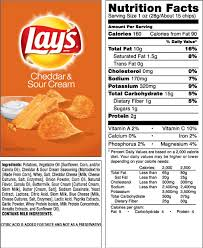lays-small: (3, 1, 99, 155)
